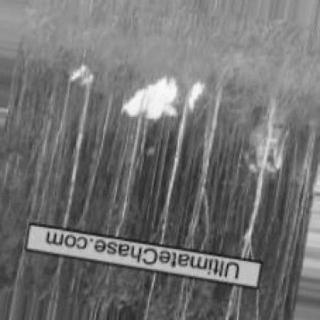Fire: (117, 74, 210, 134), (67, 62, 99, 94)
